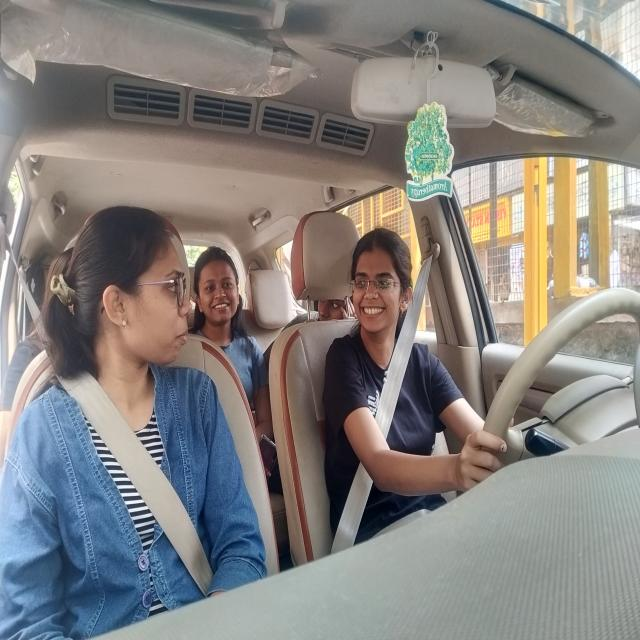LeftRight: (344, 207, 424, 360)
person: (51, 190, 199, 402), (187, 235, 254, 348)
talking: (353, 298, 392, 327), (169, 318, 196, 355)
